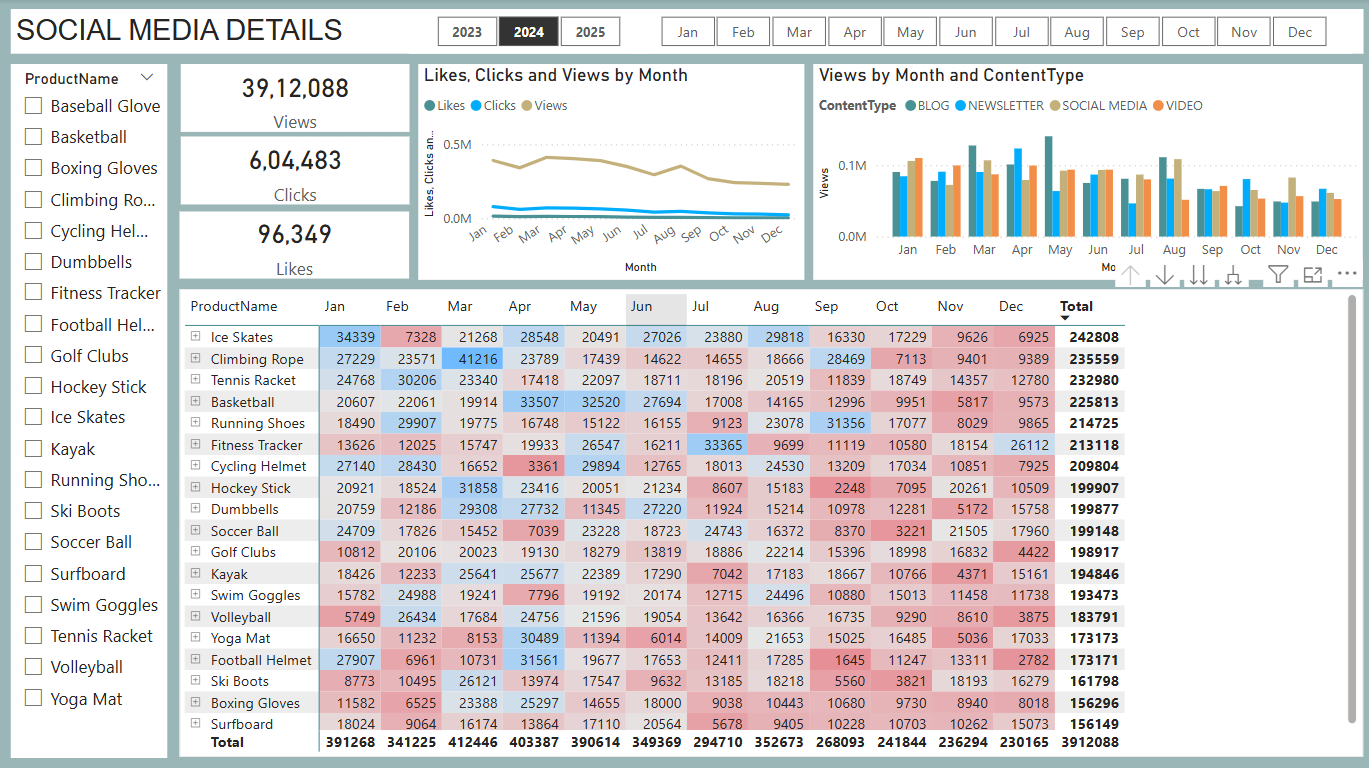

What the dashboard file says about the page in this screenshot:
{"tool":"powerbi","page":{"name":"SOCIAL MEDIA DETAILS","canvas":[1280,720],"ordinal":2},"visuals":[{"type":"textbox","box":[12.2,9.8,1258.3,41.6],"z":0},{"type":"slicer","fields":{"Values":["Calendar.Year"]},"box":[384,9.8,220.1,41.6],"z":1000},{"type":"slicer","fields":{"Values":["Calendar.MonthNameShort"]},"box":[591.9,9.8,668.9,41.6],"z":2000},{"type":"slicer","fields":{"Values":["dim_products.ProductName"]},"box":[12.2,59.9,145.5,645.7],"z":3000},{"type":"card","fields":{"Values":["Calculations.Clicks"]},"box":[171.2,128.4,212.8,63.6],"z":8000},{"type":"card","fields":{"Values":["Calculations.Likes"]},"box":[170,198.1,214,62.4],"z":9000},{"type":"card","fields":{"Values":["Calculations.Views"]},"box":[171.2,59.9,212.8,63.6],"z":10000},{"type":"lineChart","fields":{"Y":["Calculations.Likes","Calculations.Clicks","Calculations.Views"],"Category":["Calendar.MonthNameShort"]},"box":[391.3,59.9,359.5,200.5],"z":14000},{"type":"clusteredColumnChart","fields":{"Category":["Calendar.MonthNameShort"],"Y":["Calculations.Views"],"Series":["fact_engagement_data.ContentType"]},"box":[759.4,59.9,511.1,200.5],"z":14001},{"type":"pivotTable","fields":{"Values":["Calculations.Views"],"Rows":["dim_products.ProductName","fact_engagement_data.ContentType"],"Columns":["Calendar.MonthNameShort"]},"box":[170,270.2,1100.5,435.3],"z":14002}]}

Visuals, with their boxes in screenshot pixels (x1, y1, x2, y2), scaled from the page's 1280x720 canvas onto the 1369x768 screenshot:
textbox: l=13, t=10, r=1359, b=55
slicer - Calendar.Year: l=411, t=10, r=646, b=55
slicer - Calendar.MonthNameShort: l=633, t=10, r=1348, b=55
slicer - dim_products.ProductName: l=13, t=64, r=169, b=753
card - Calculations.Clicks: l=183, t=137, r=411, b=205
card - Calculations.Likes: l=182, t=211, r=411, b=278
card - Calculations.Views: l=183, t=64, r=411, b=132
lineChart - Calculations.Likes x Calculations.Clicks: l=419, t=64, r=803, b=278
clusteredColumnChart - Calendar.MonthNameShort x Calculations.Views: l=812, t=64, r=1359, b=278
pivotTable - Calculations.Views x dim_products.ProductName: l=182, t=288, r=1359, b=753
